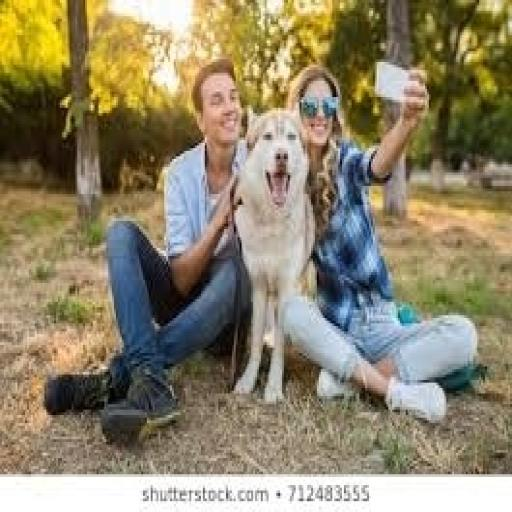sitting: (43, 51, 481, 442), (43, 56, 255, 444), (280, 59, 479, 423)
